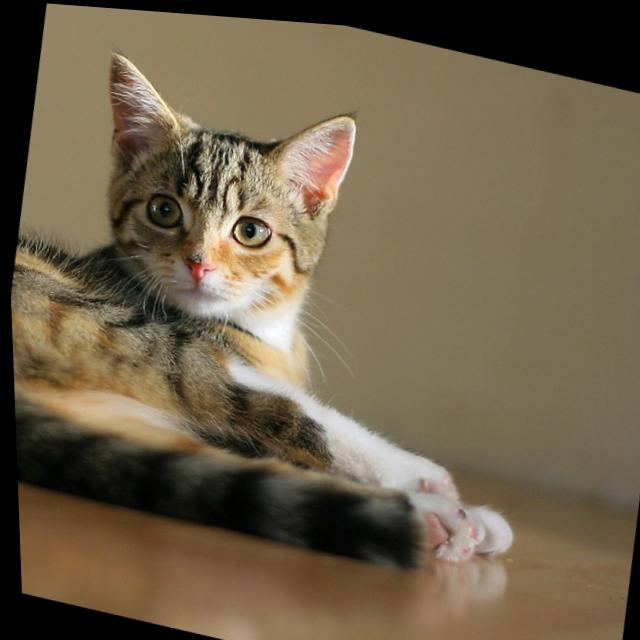animals: (84, 49, 358, 306)
